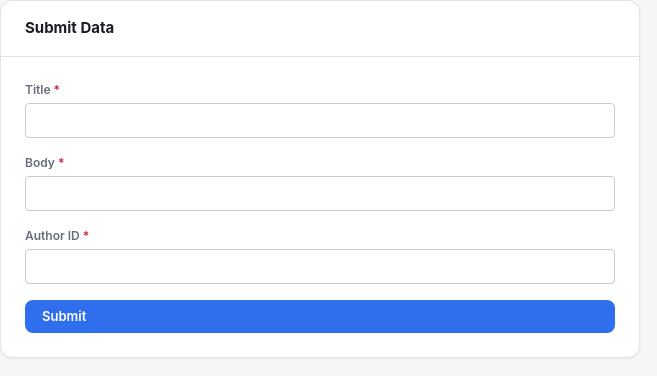
Test: OutboundFormUser › matches the spec test scenario end-to-end: submits Title/Body/Author ID and shows a 201 success result
Type "My Post" into the field labelled "Title *" at (320, 120), box 25,102 -> 615,138
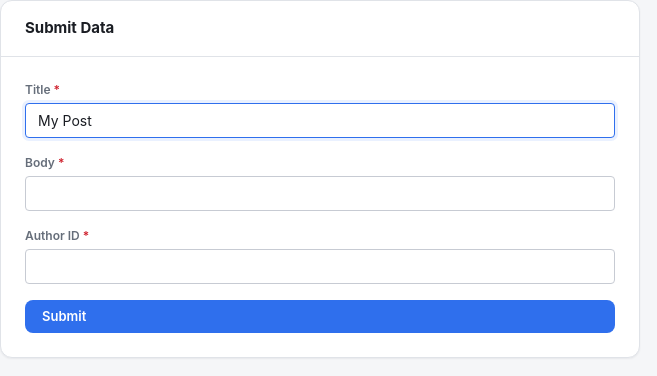
Type "Post body text" into the field labelled "Body *" at (320, 193), box 25,176 -> 615,210
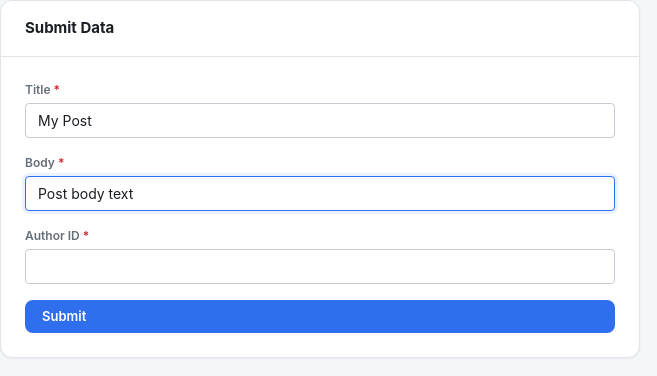
Type "7" into the number field labelled "Author ID *" at (320, 266), box 25,248 -> 615,284
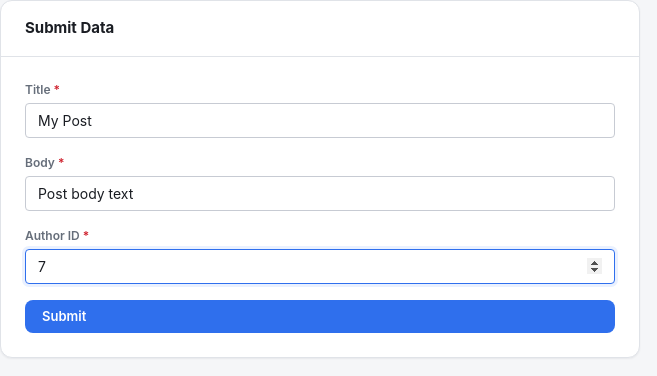
Click the button "Submit" at (64, 316), box 25,300 -> 615,333
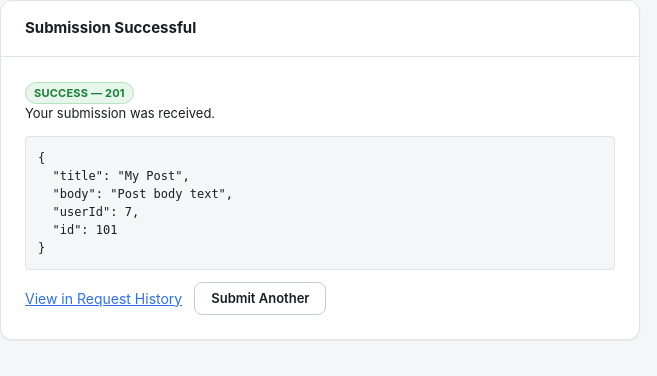
Check: the heading "Submission Successful" is shown, box 25,17 -> 196,40
Check: the text "Success — 201" is shown, box 25,82 -> 134,104
Check: the text "\"userId\": 7" is shown, box 38,150 -> 233,254
